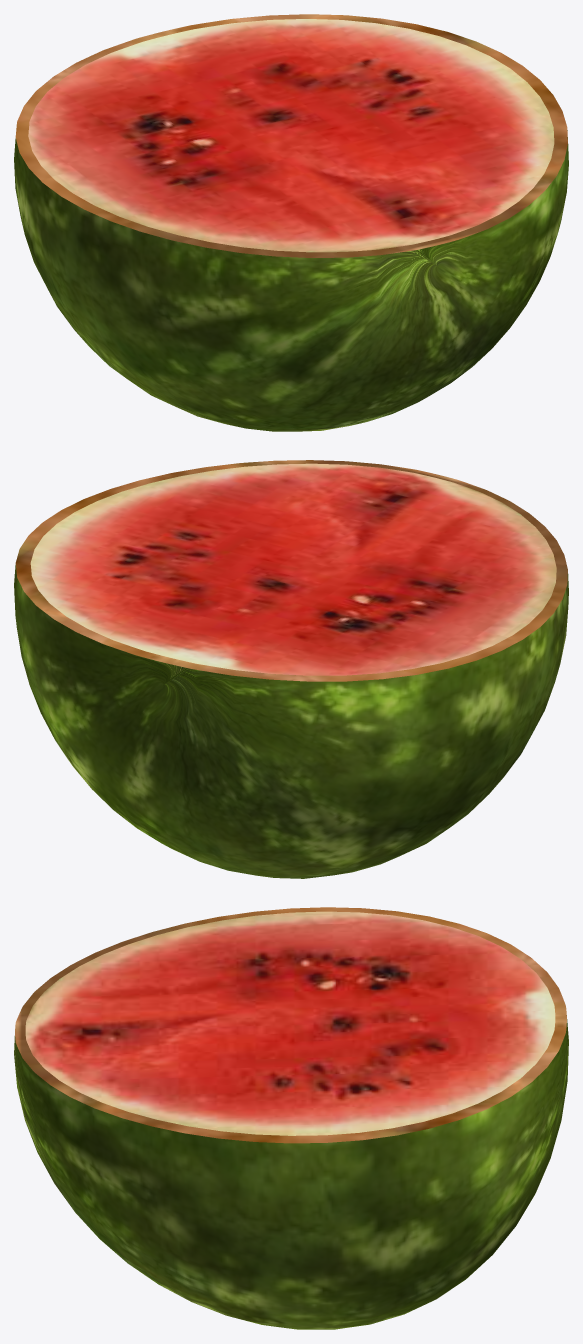
Rendered from watermelon_half.obj.
The picture shows the model from 3 angles, top to bottom: view 1: azimuth 30°, elevation 25°; view 2: azimuth 150°, elevation 25°; view 3: azimuth 270°, elevation 25°; orthographic projection.
Parts seen in each view (by area): view 1: Watermelon_Half_A02, Watermelon02, Watermelon_Half_B02; view 2: Watermelon02, Watermelon_Half_A02, Watermelon_Half_B02; view 3: Watermelon_Half_A02, Watermelon02, Watermelon_Half_B02.
Part boxes in pixels (x1,y1,x2,y2): Watermelon_Half_A02: (28,19,554,252); Watermelon02: (14,130,568,431); Watermelon_Half_B02: (15,14,567,257); Watermelon02: (14,565,568,878); Watermelon_Half_A02: (30,463,556,675); Watermelon_Half_B02: (15,460,567,681); Watermelon_Half_A02: (25,911,555,1135); Watermelon02: (14,1015,568,1329); Watermelon_Half_B02: (15,907,566,1143).
Size of the model in its own units: 2.51 by 1.41 by 2.48.
